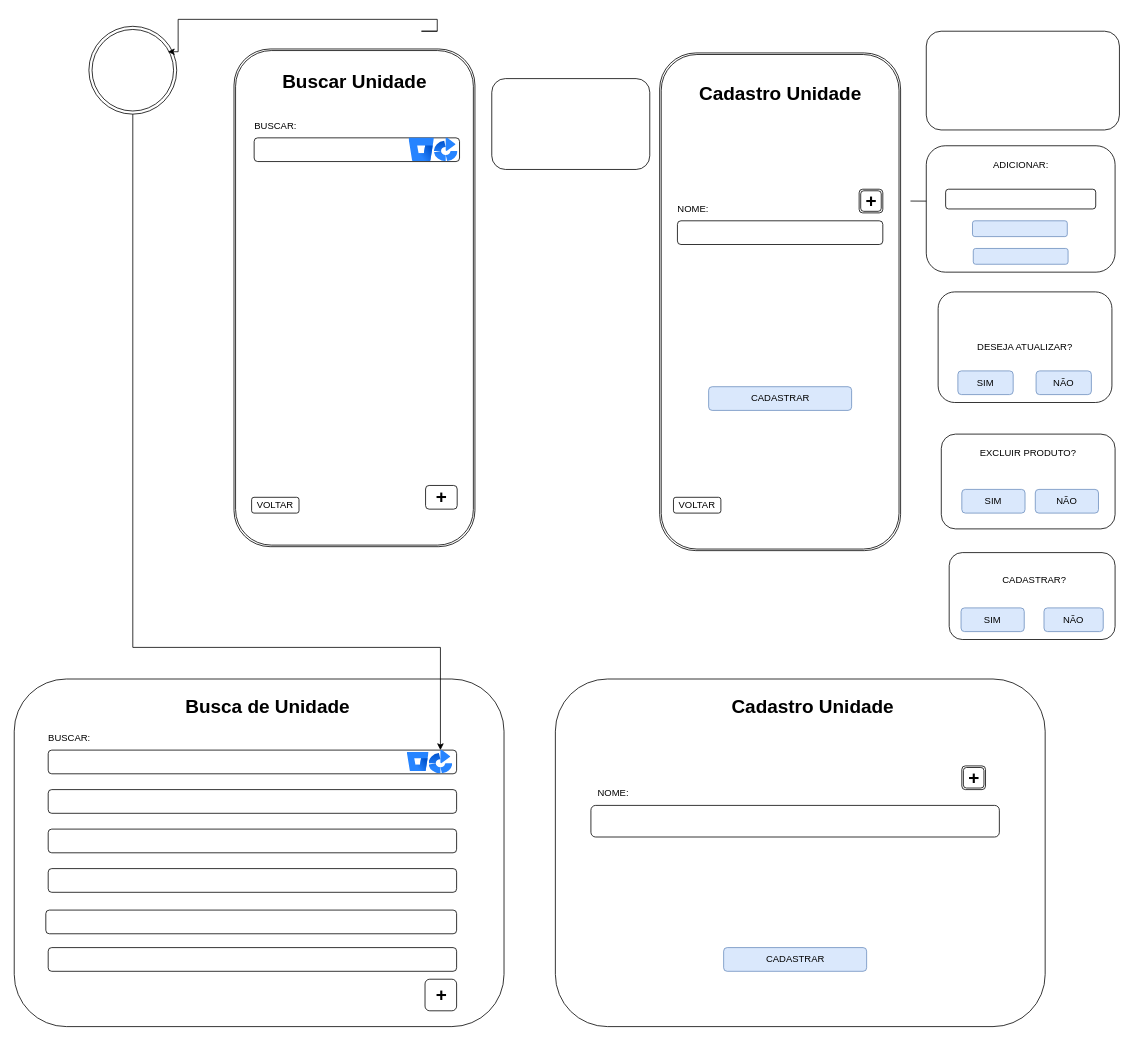
Image size: 1133x1040. Some labels were removed from this diagram. Each missing label, with the centre of its shape:
"ADICIONAR" goes at (1019,228).
"CADASTRO REALIZADO COM SUCESSO." goes at (1022,80).
"CANCELAR" goes at (1020,256).
"DADOS INCORRETOS." goes at (570,123).
"Lixeira e atualizar ficará ao lado de cada nome" goes at (132,70).
